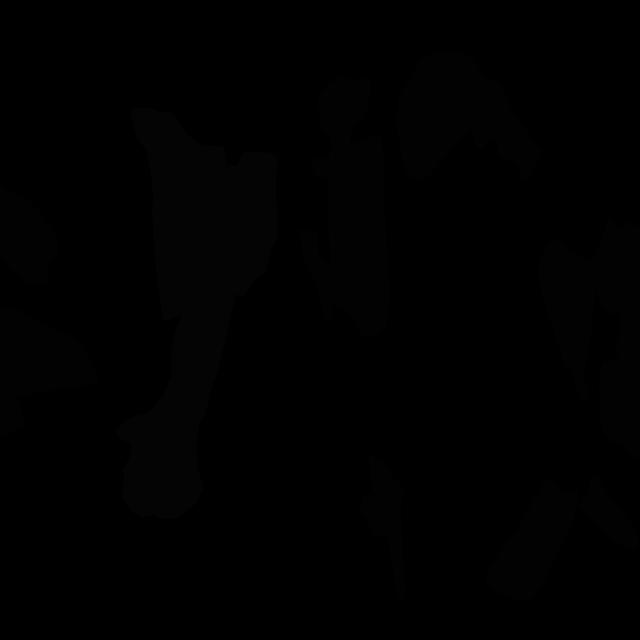cardboard: (394, 51, 544, 180), (0, 307, 100, 438), (328, 135, 390, 336), (594, 215, 640, 462), (486, 479, 578, 601), (537, 239, 599, 404), (360, 451, 406, 601), (0, 183, 58, 285), (577, 474, 639, 550), (317, 77, 371, 148), (299, 228, 332, 319), (310, 158, 328, 178)
soft_plastic: (130, 107, 278, 321), (115, 280, 236, 519)
